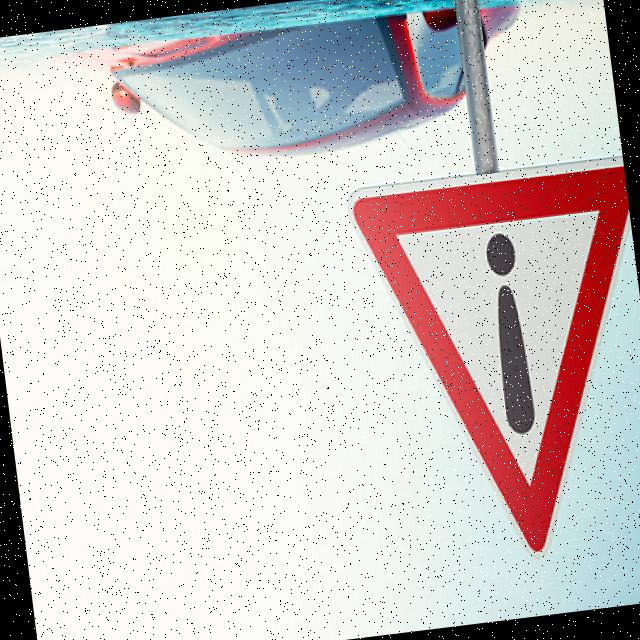warning: (341, 144, 640, 586)
